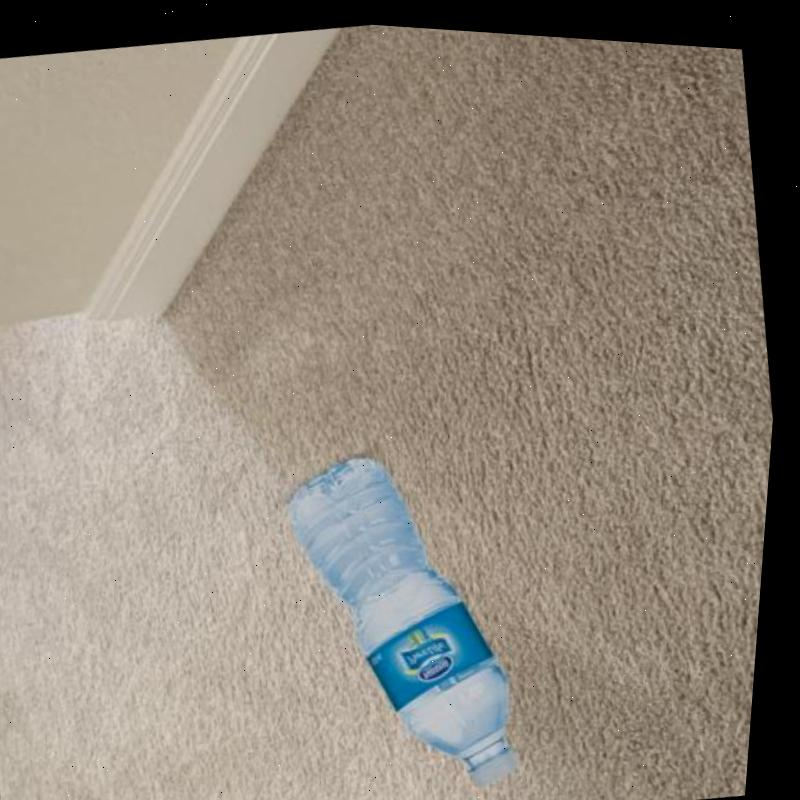botella: (268, 426, 553, 800)
